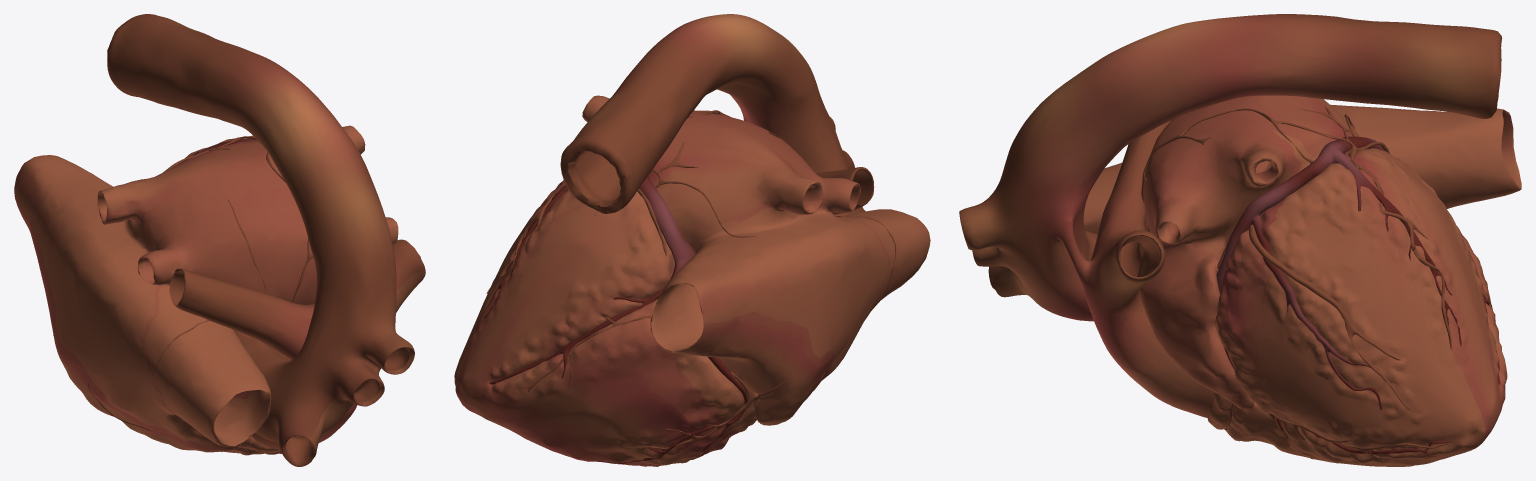
The model's file is Heart.glb.
3 views of the same model, side by side, from view 1: azimuth 30°, elevation 25°; view 2: azimuth 150°, elevation 25°; view 3: azimuth 270°, elevation 25° (orthographic). The views are drawn at different scales.
Visible parts, largest first — view 1: MM634_BP51951_FMA4706_Coronary_sinus821_MM634_BP51951_F_e6be, Extract3_1; view 2: MM634_BP51951_FMA4706_Coronary_sinus821_MM634_BP51951_F_e6be, Extract3_1, Extract1; view 3: MM634_BP51951_FMA4706_Coronary_sinus821_MM634_BP51951_F_e6be, Extract3_1, Extract1.
Boxes of the visible parts, x1,y1,x2,y2 form: MM634_BP51951_FMA4706_Coronary_sinus821_MM634_BP51951_F_e6be: (14,125,398,455); Extract3_1: (53,14,425,466); MM634_BP51951_FMA4706_Coronary_sinus821_MM634_BP51951_F_e6be: (454,95,930,466); Extract3_1: (482,14,896,466); Extract1: (484,176,746,466); MM634_BP51951_FMA4706_Coronary_sinus821_MM634_BP51951_F_e6be: (1083,95,1521,466); Extract3_1: (959,14,1502,459); Extract1: (1216,136,1500,456).
Size of the model in its own units: 2.16 by 2.59 by 3.04.
4 materials, 4 textured.
